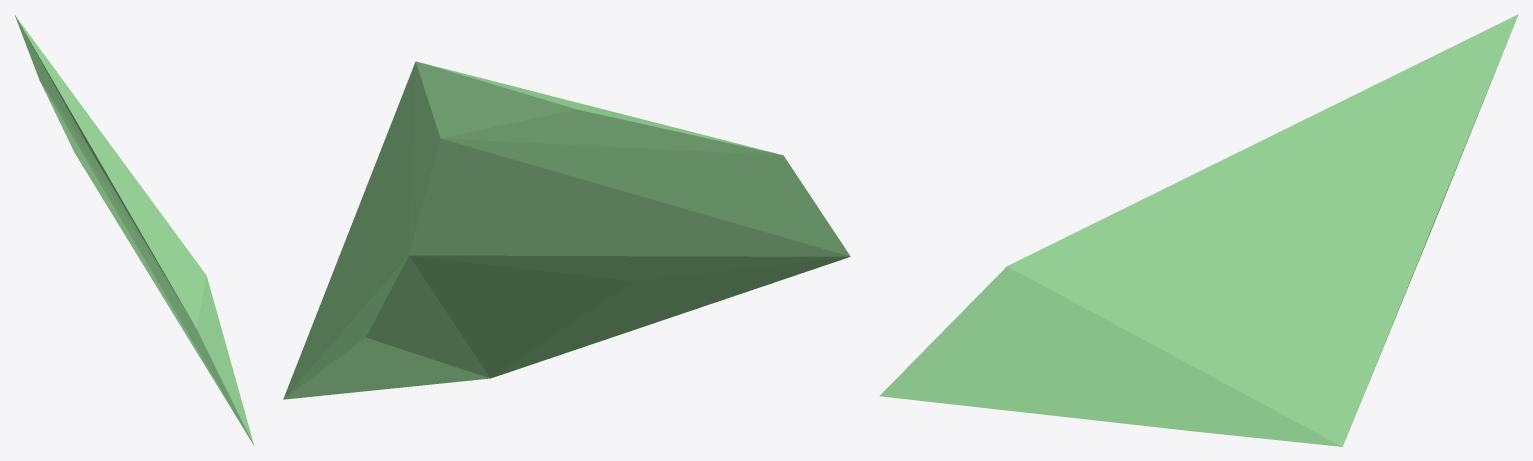
File: Franka_link1_resp_coll_4.dae
The picture shows the model from 3 angles, left to right: view 1: azimuth 30°, elevation 25°; view 2: azimuth 150°, elevation 25°; view 3: azimuth 270°, elevation 25°; orthographic projection. The views are drawn at different scales.
Parts seen in each view (by area): view 1: node; view 2: node; view 3: node.
Part boxes in pixels (box(x1,y1,x2,y2)): node: box(15, 15, 254, 445); node: box(283, 61, 850, 399); node: box(879, 14, 1518, 446).
Size of the model in its own units: 0.0315 by 0.062 by 0.096.
